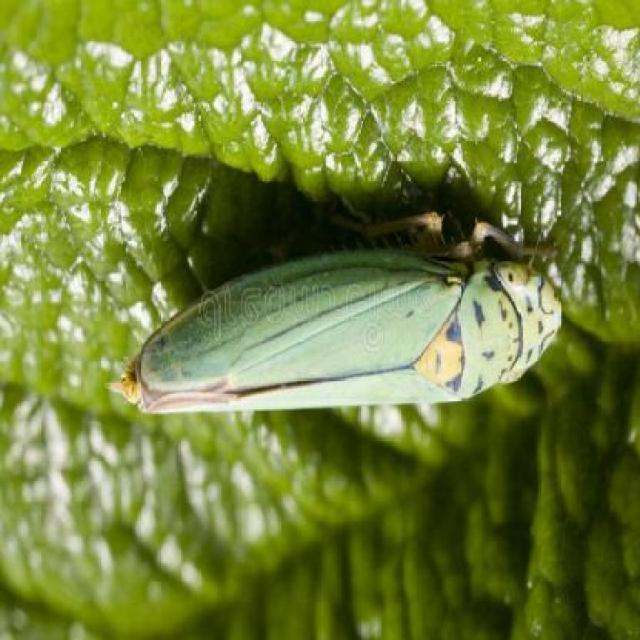green-leafhopper: (126, 231, 563, 420)
